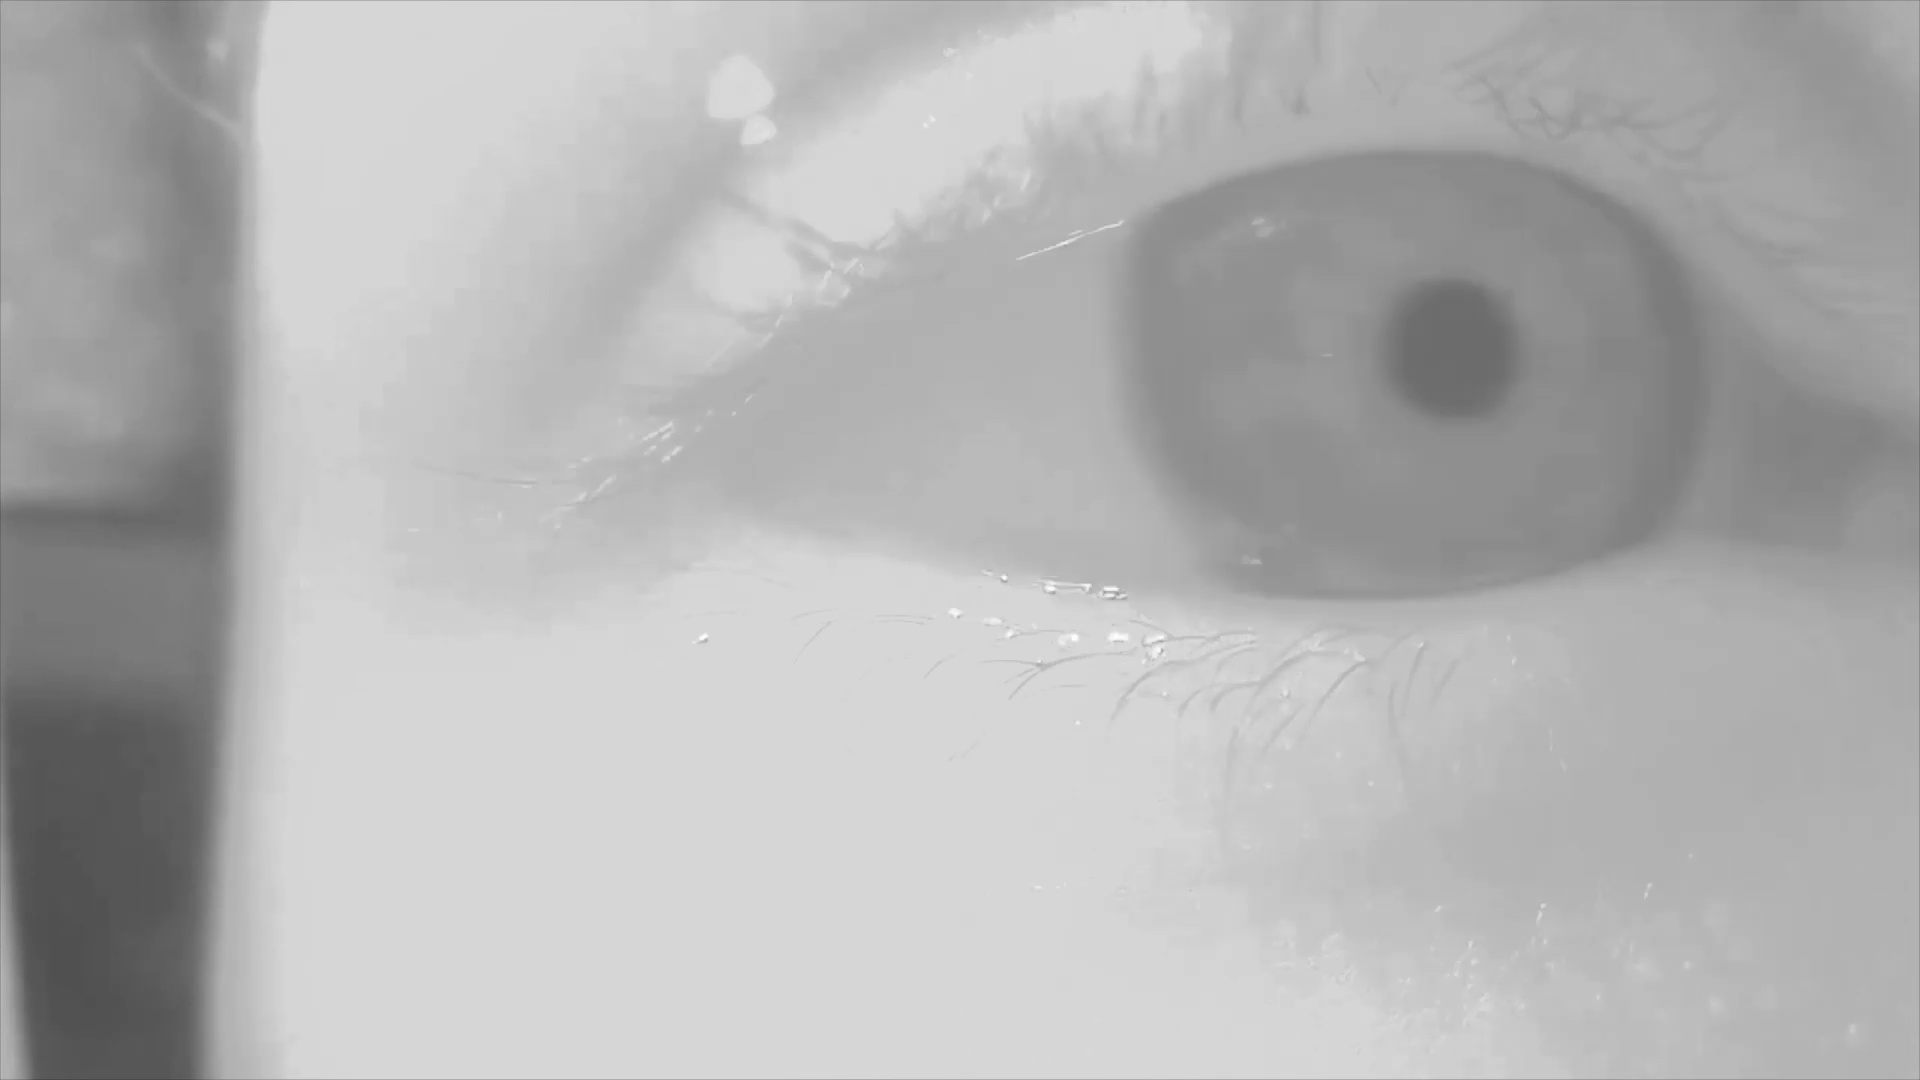pupil: (1389, 283, 1521, 423)
